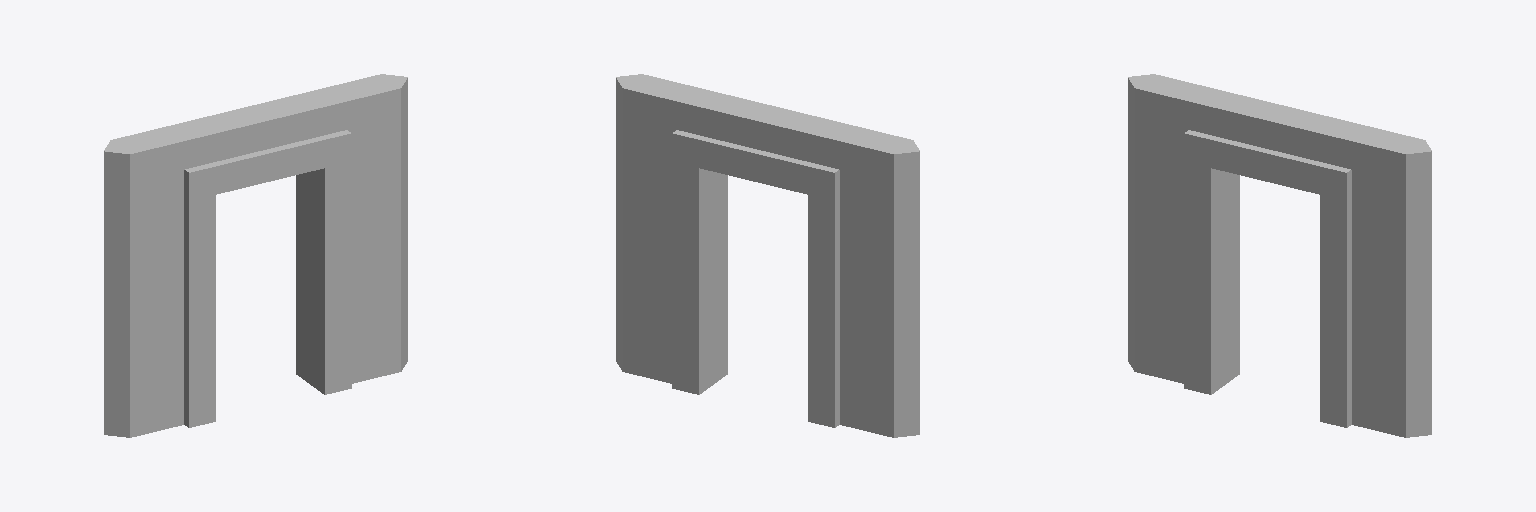
Rendered from Doorway1Model.obj.
3 views of the same model, side by side, from view 1: azimuth 30°, elevation 25°; view 2: azimuth 150°, elevation 25°; view 3: azimuth 330°, elevation 25° (orthographic).
Visible parts, largest first — view 1: mergedBlocks; view 2: mergedBlocks; view 3: mergedBlocks.
Part boxes in pixels (x1,y1,x2,y2): mergedBlocks: (104, 74, 407, 437); mergedBlocks: (616, 74, 919, 437); mergedBlocks: (1128, 74, 1431, 437).
Size of the model in its own units: 1.12 by 1 by 0.185.